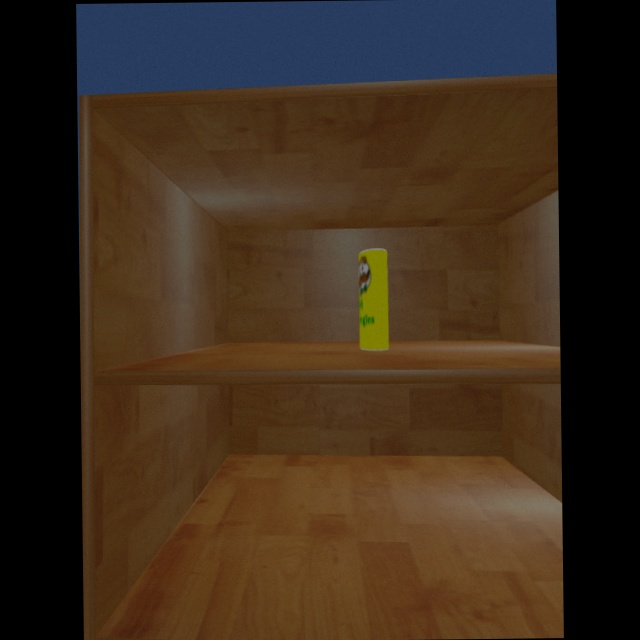chipsdose_gelb: (358, 248, 389, 352)
